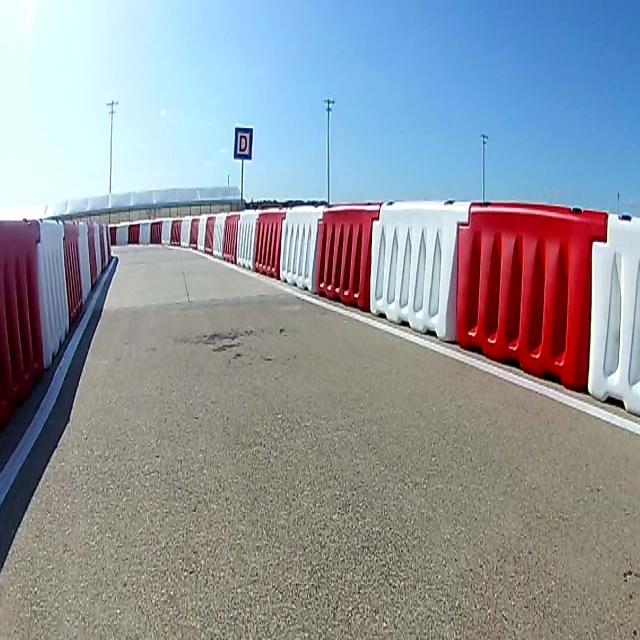durak: (234, 126, 252, 160)
